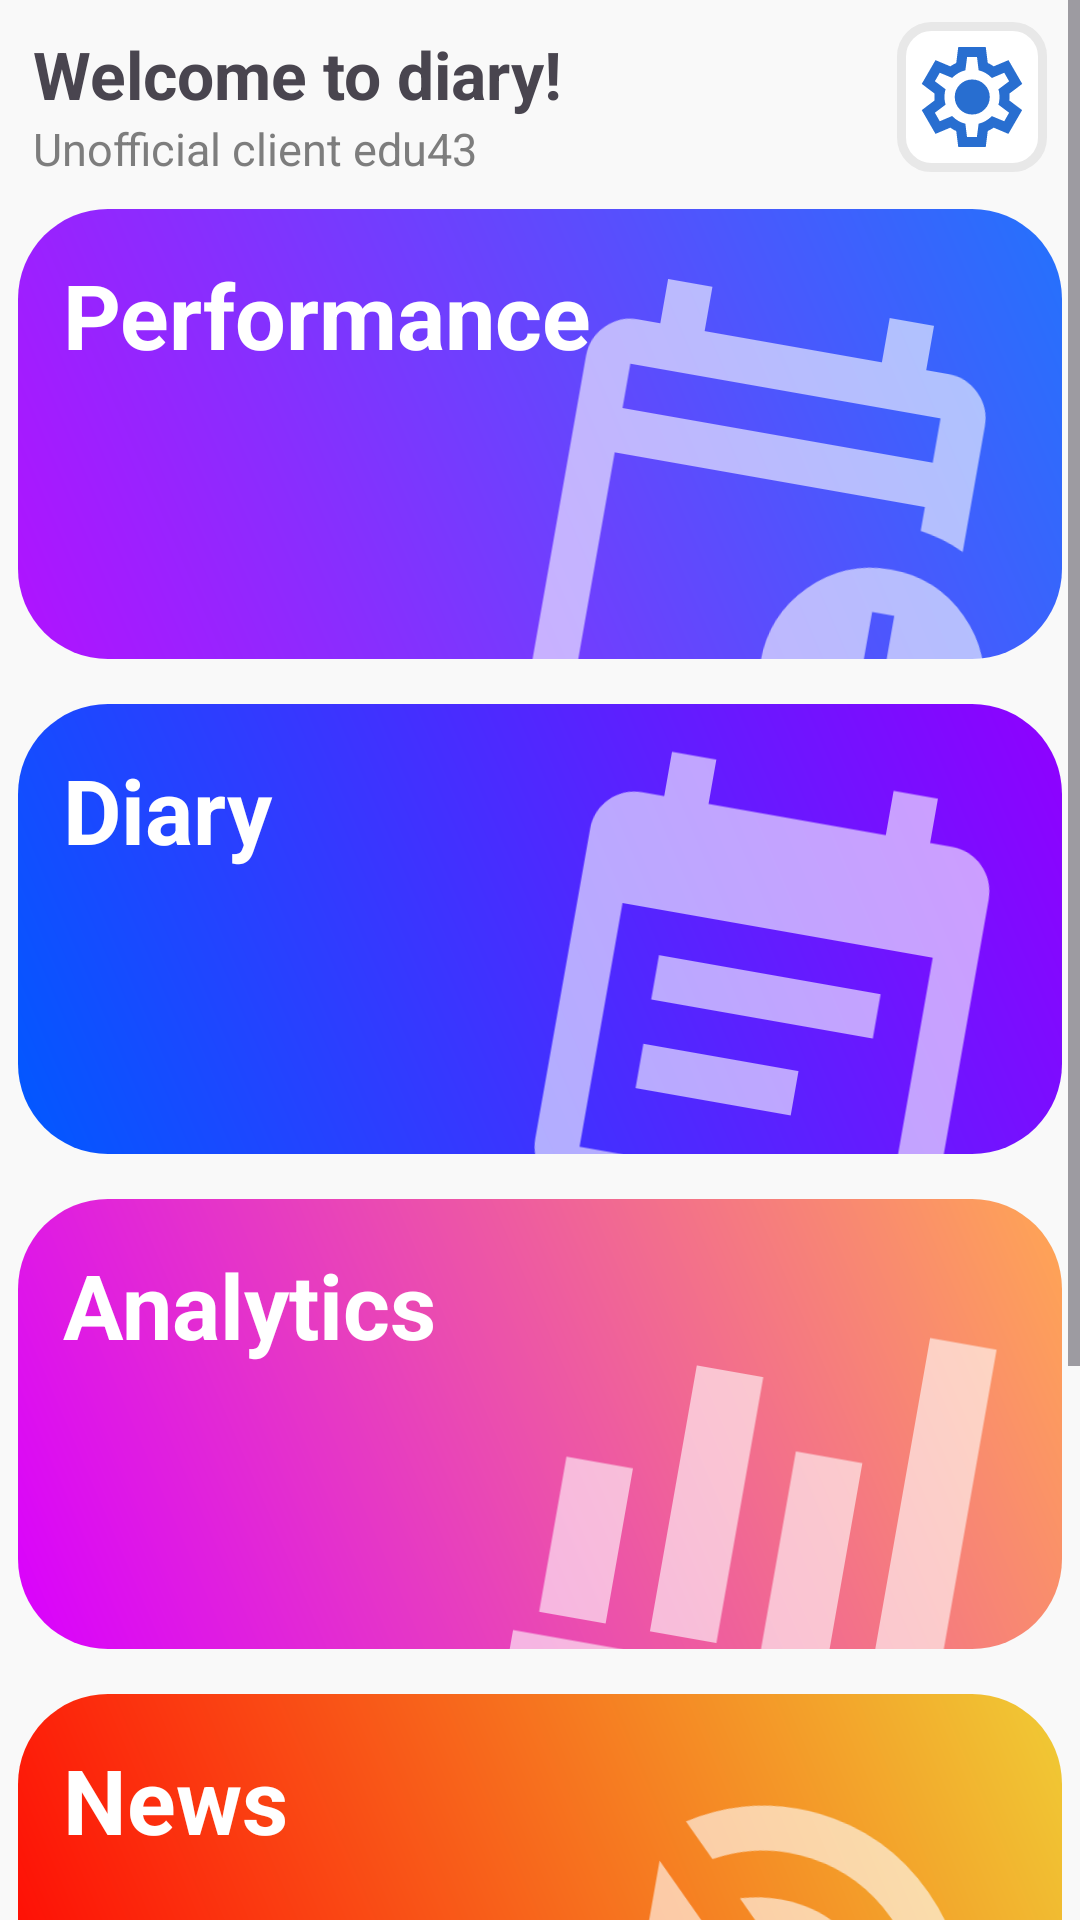

Icon bounding boxes for this 1080x1920 phone screenshot, format (x1, y1, x2, y2):
settings: (922, 47, 1022, 147)
